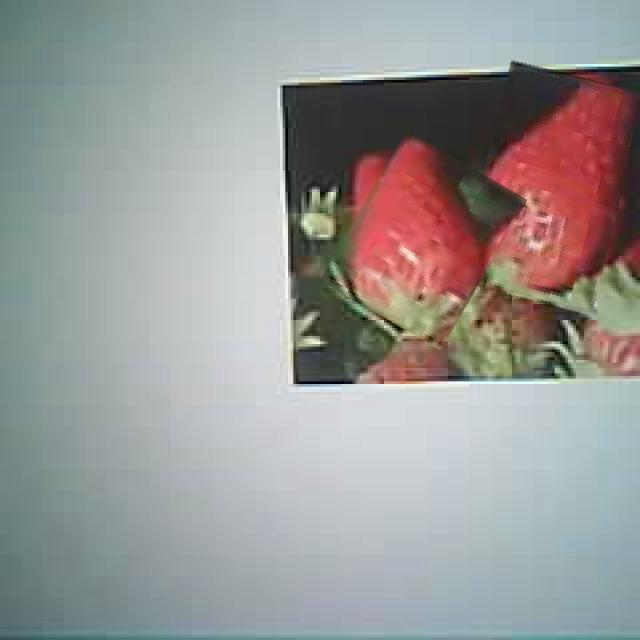strawberry: (470, 66, 634, 308), (337, 142, 511, 338)
